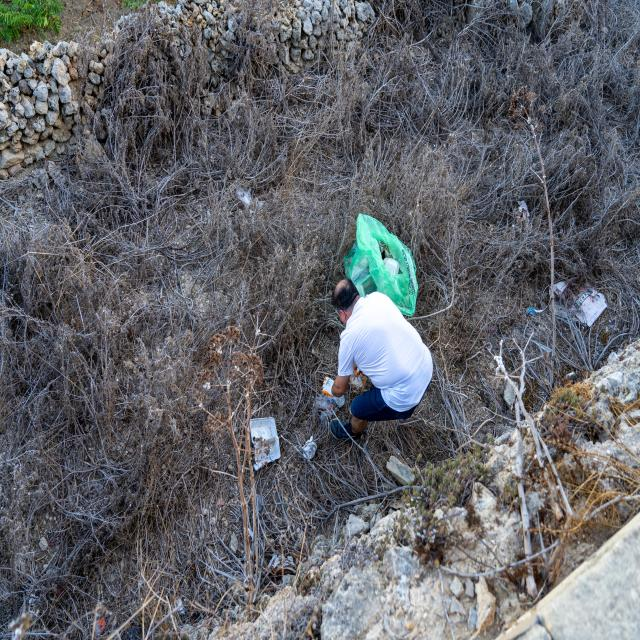Other plastic: (234, 185, 264, 215), (526, 307, 537, 316)
Paper: (548, 278, 609, 327), (311, 392, 346, 427), (301, 434, 318, 460), (514, 200, 530, 220), (92, 616, 106, 637)
Plastic bag - wrapper: (341, 213, 419, 317)
Styrofoam piece: (249, 416, 281, 472), (383, 258, 400, 276)
